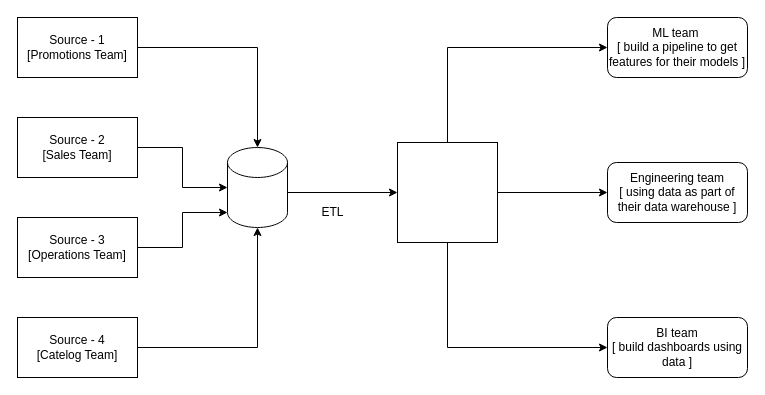
The diagram is 765 pixels wide and 395 high, and some of its shapes have lost their labels. The shapes that lost their labels are listed below. From the top down, each one's centre as x and y in pixels, then its label:
At (x=257, y=187): "Data Lake".
At (x=447, y=192): "Data Warehouse [BiqQuery]".
